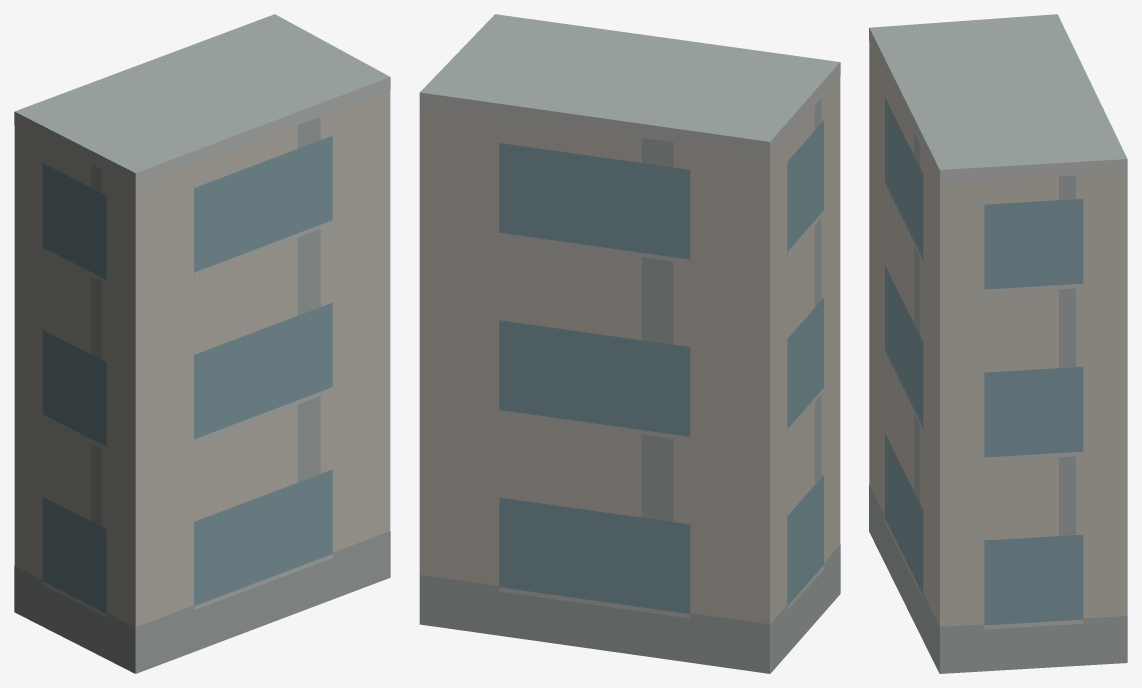
The model's file is survey-upis-32646093.glb.
The picture shows the model from 3 angles, left to right: view 1: azimuth 30°, elevation 25°; view 2: azimuth 150°, elevation 25°; view 3: azimuth 270°, elevation 25°; orthographic projection. The views are drawn at different scales.
Parts seen in each view (by area): view 1: survey-upis-32646093.tmp; view 2: survey-upis-32646093.tmp; view 3: survey-upis-32646093.tmp.
Part boxes in pixels (box(x1,y1,x2,y2)): survey-upis-32646093.tmp: box(14, 14, 390, 673); survey-upis-32646093.tmp: box(419, 14, 840, 673); survey-upis-32646093.tmp: box(869, 14, 1127, 673).
Size of the model in its own units: 6.08 by 9.15 by 4.26.
